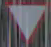Give way: (3, 0, 45, 46)
